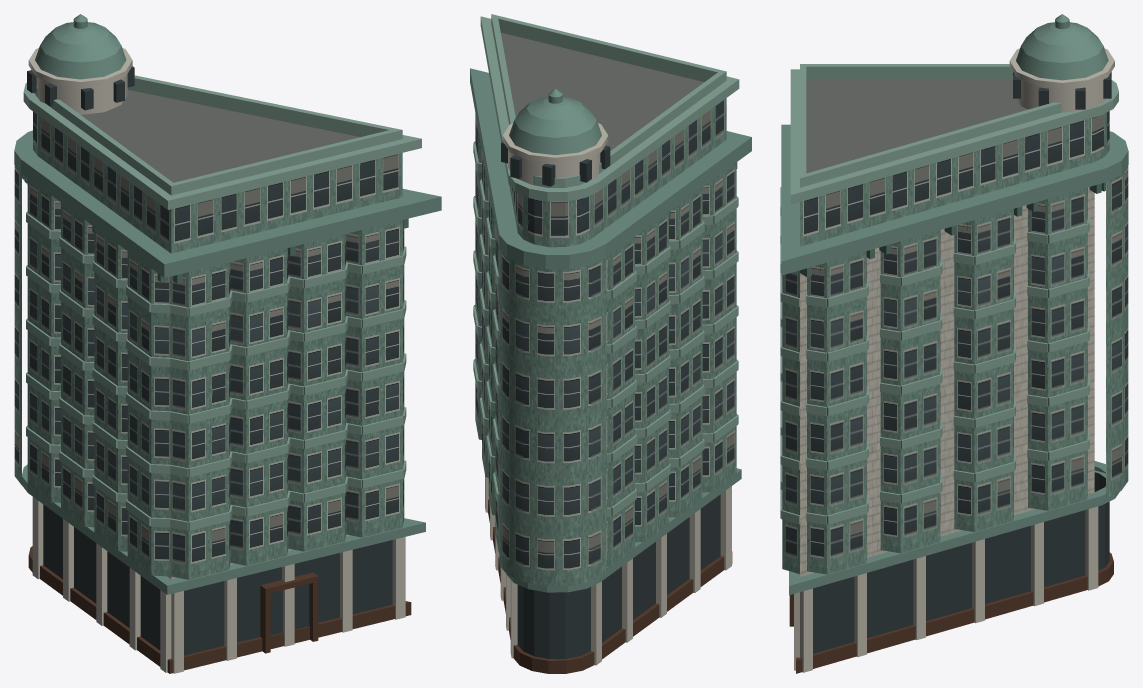
File: sentinel_building.glb
The picture shows the model from 3 angles, left to right: view 1: azimuth 30°, elevation 25°; view 2: azimuth 150°, elevation 25°; view 3: azimuth 270°, elevation 25°; orthographic projection.
Visible parts, largest first — view 1: sentinel_building; view 2: sentinel_building; view 3: sentinel_building.
Boxes of the visible parts, x1,y1,x2,y2 form: sentinel_building: [14, 14, 441, 673]; sentinel_building: [470, 14, 751, 673]; sentinel_building: [780, 14, 1128, 673].
Bounding box in the file's own units: 15.77 × 30 × 16.86.
Materials: 3 (3 with a texture image).
